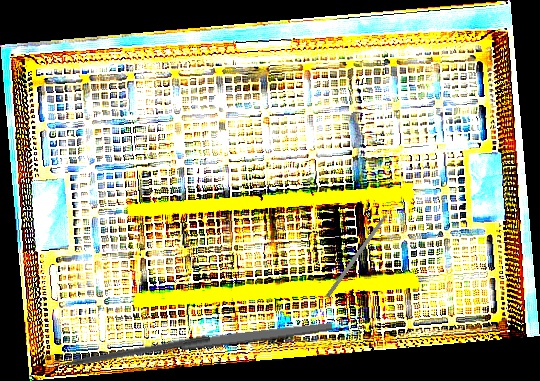Chopper: (325, 200, 403, 302)
Pusher: (40, 333, 211, 372)
Surgical Spoon: (116, 319, 333, 360)
